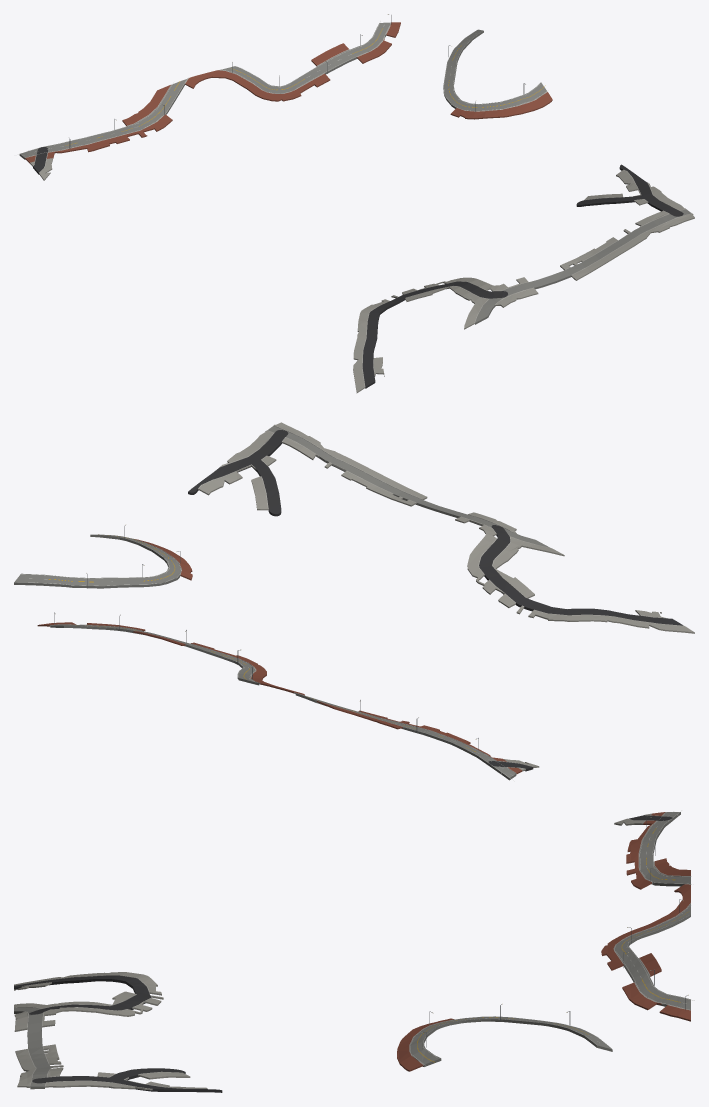
3 renders of one model, top to bottom at view 1: azimuth 30°, elevation 25°; view 2: azimuth 150°, elevation 25°; view 3: azimuth 270°, elevation 25°, orthographic. The views are drawn at different scales.
Size of the model in its own units: 298 by 83.89 by 293.
